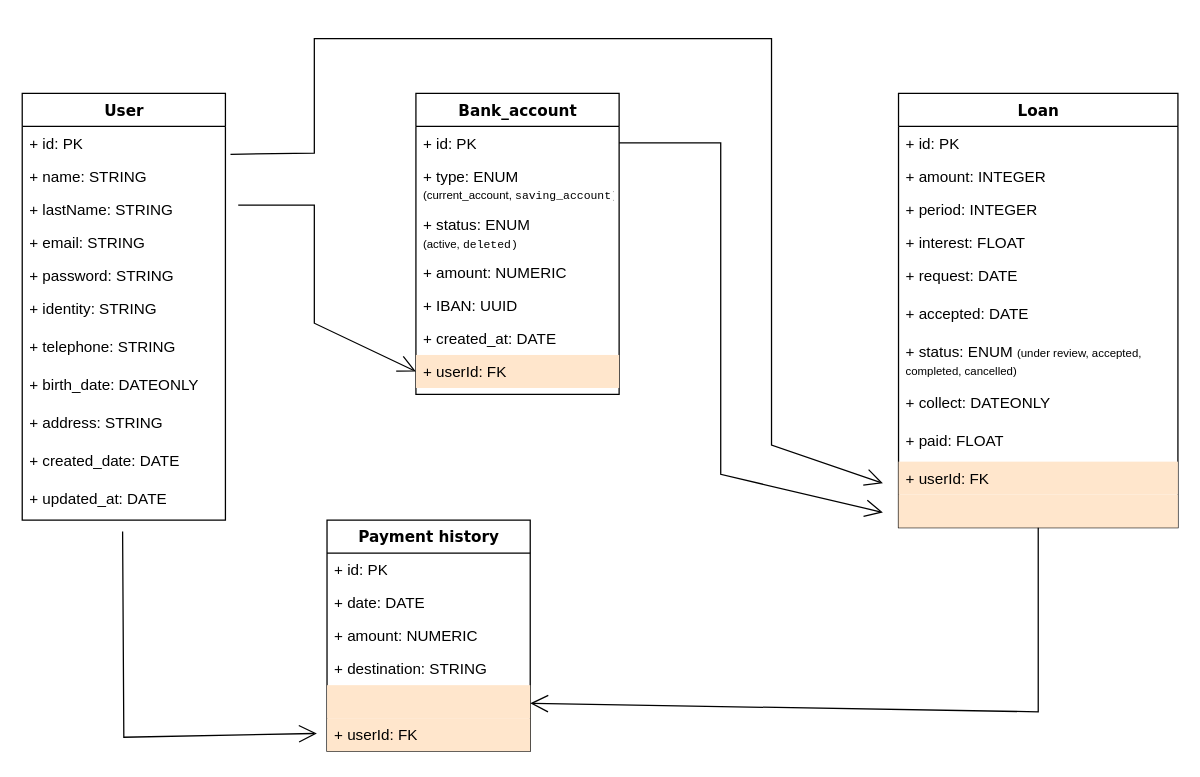
This 1200x777 diagram has some shape labels left out. Each missing label, with the centre of its shape:
"+ bank_accountId: FK" belongs at [1037,510].
"+ loanId: FK" belongs at [428,701].
